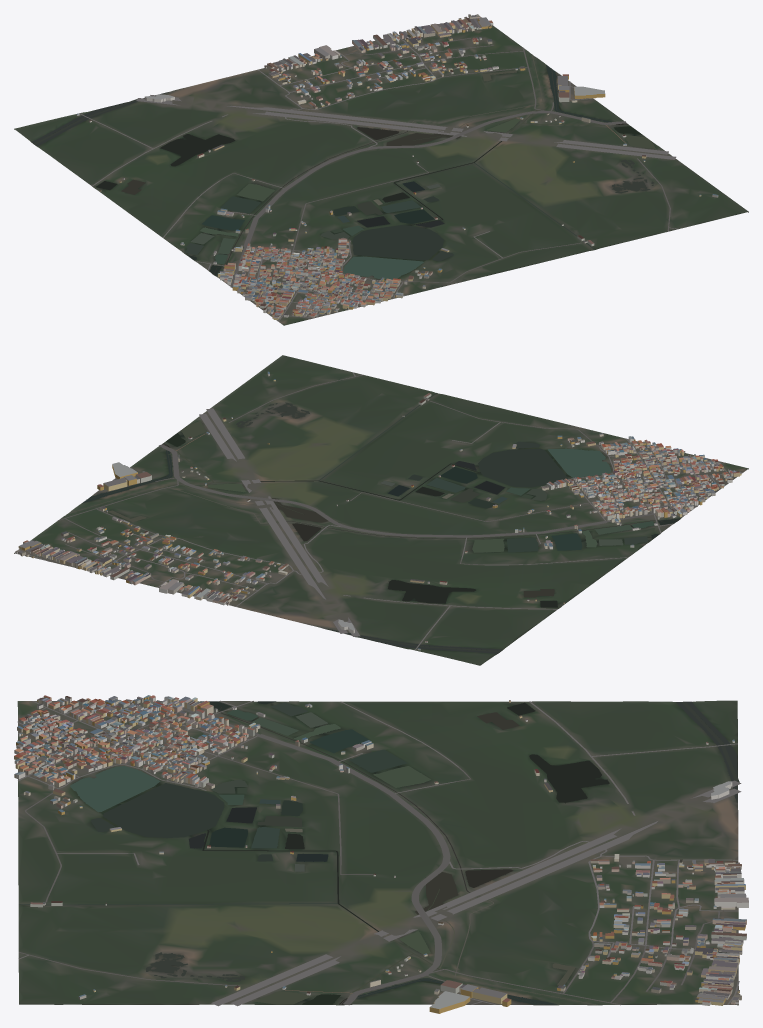
3 views of the same model, one above another, from view 1: azimuth 30°, elevation 25°; view 2: azimuth 150°, elevation 25°; view 3: azimuth 270°, elevation 25° (orthographic). The views are drawn at different scales.
Parts seen in each view (by area): view 1: ground, buildings, water, roads; view 2: ground, buildings, water, roads; view 3: ground, buildings, water, roads.
Boxes of the visible parts, x1,y1,x2,y2 form: ground: (14,17,748,325); buildings: (76,14,718,319); water: (32,54,655,279); roads: (79,18,678,321); ground: (14,355,748,665); buildings: (15,371,741,650); water: (67,393,680,653); roads: (18,372,742,650); ground: (17,700,738,1005); buildings: (14,695,748,1013); water: (18,701,739,1005); roads: (17,700,741,1006).
Size of the model in its own units: 1447 by 23.33 by 1431.
